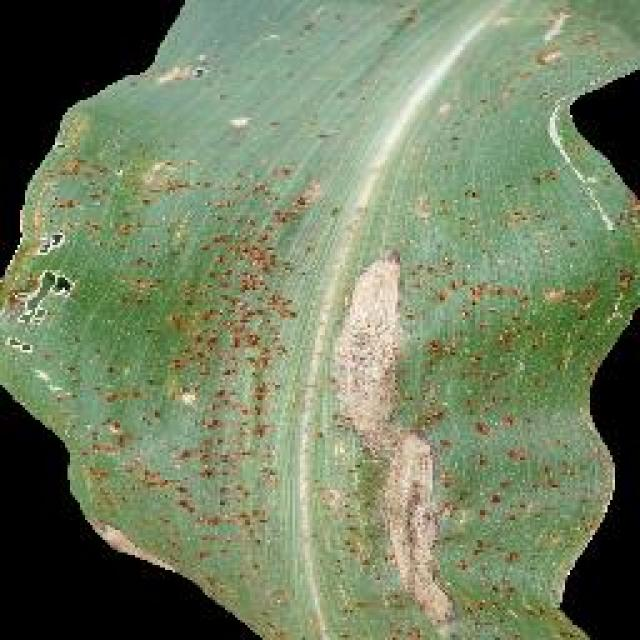Corn Common Rust: (212, 30, 530, 568)
